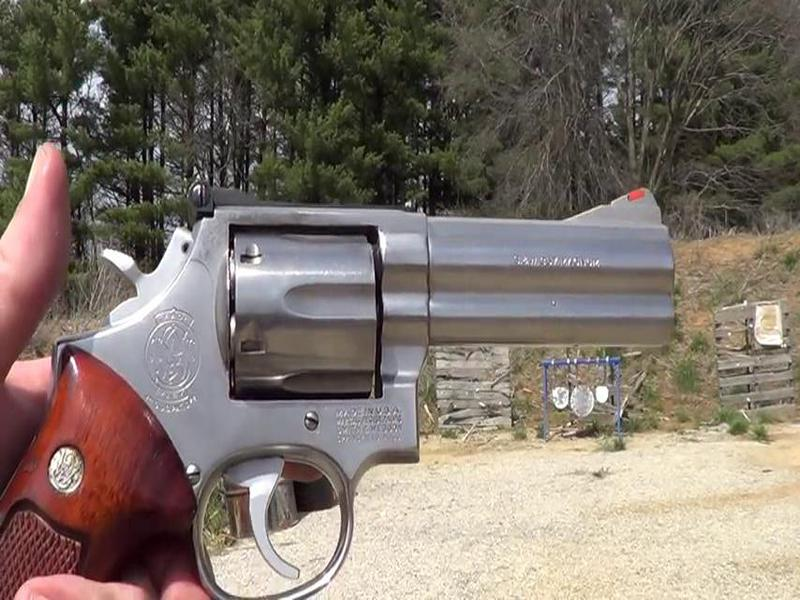Revolver: (31, 175, 637, 519)
